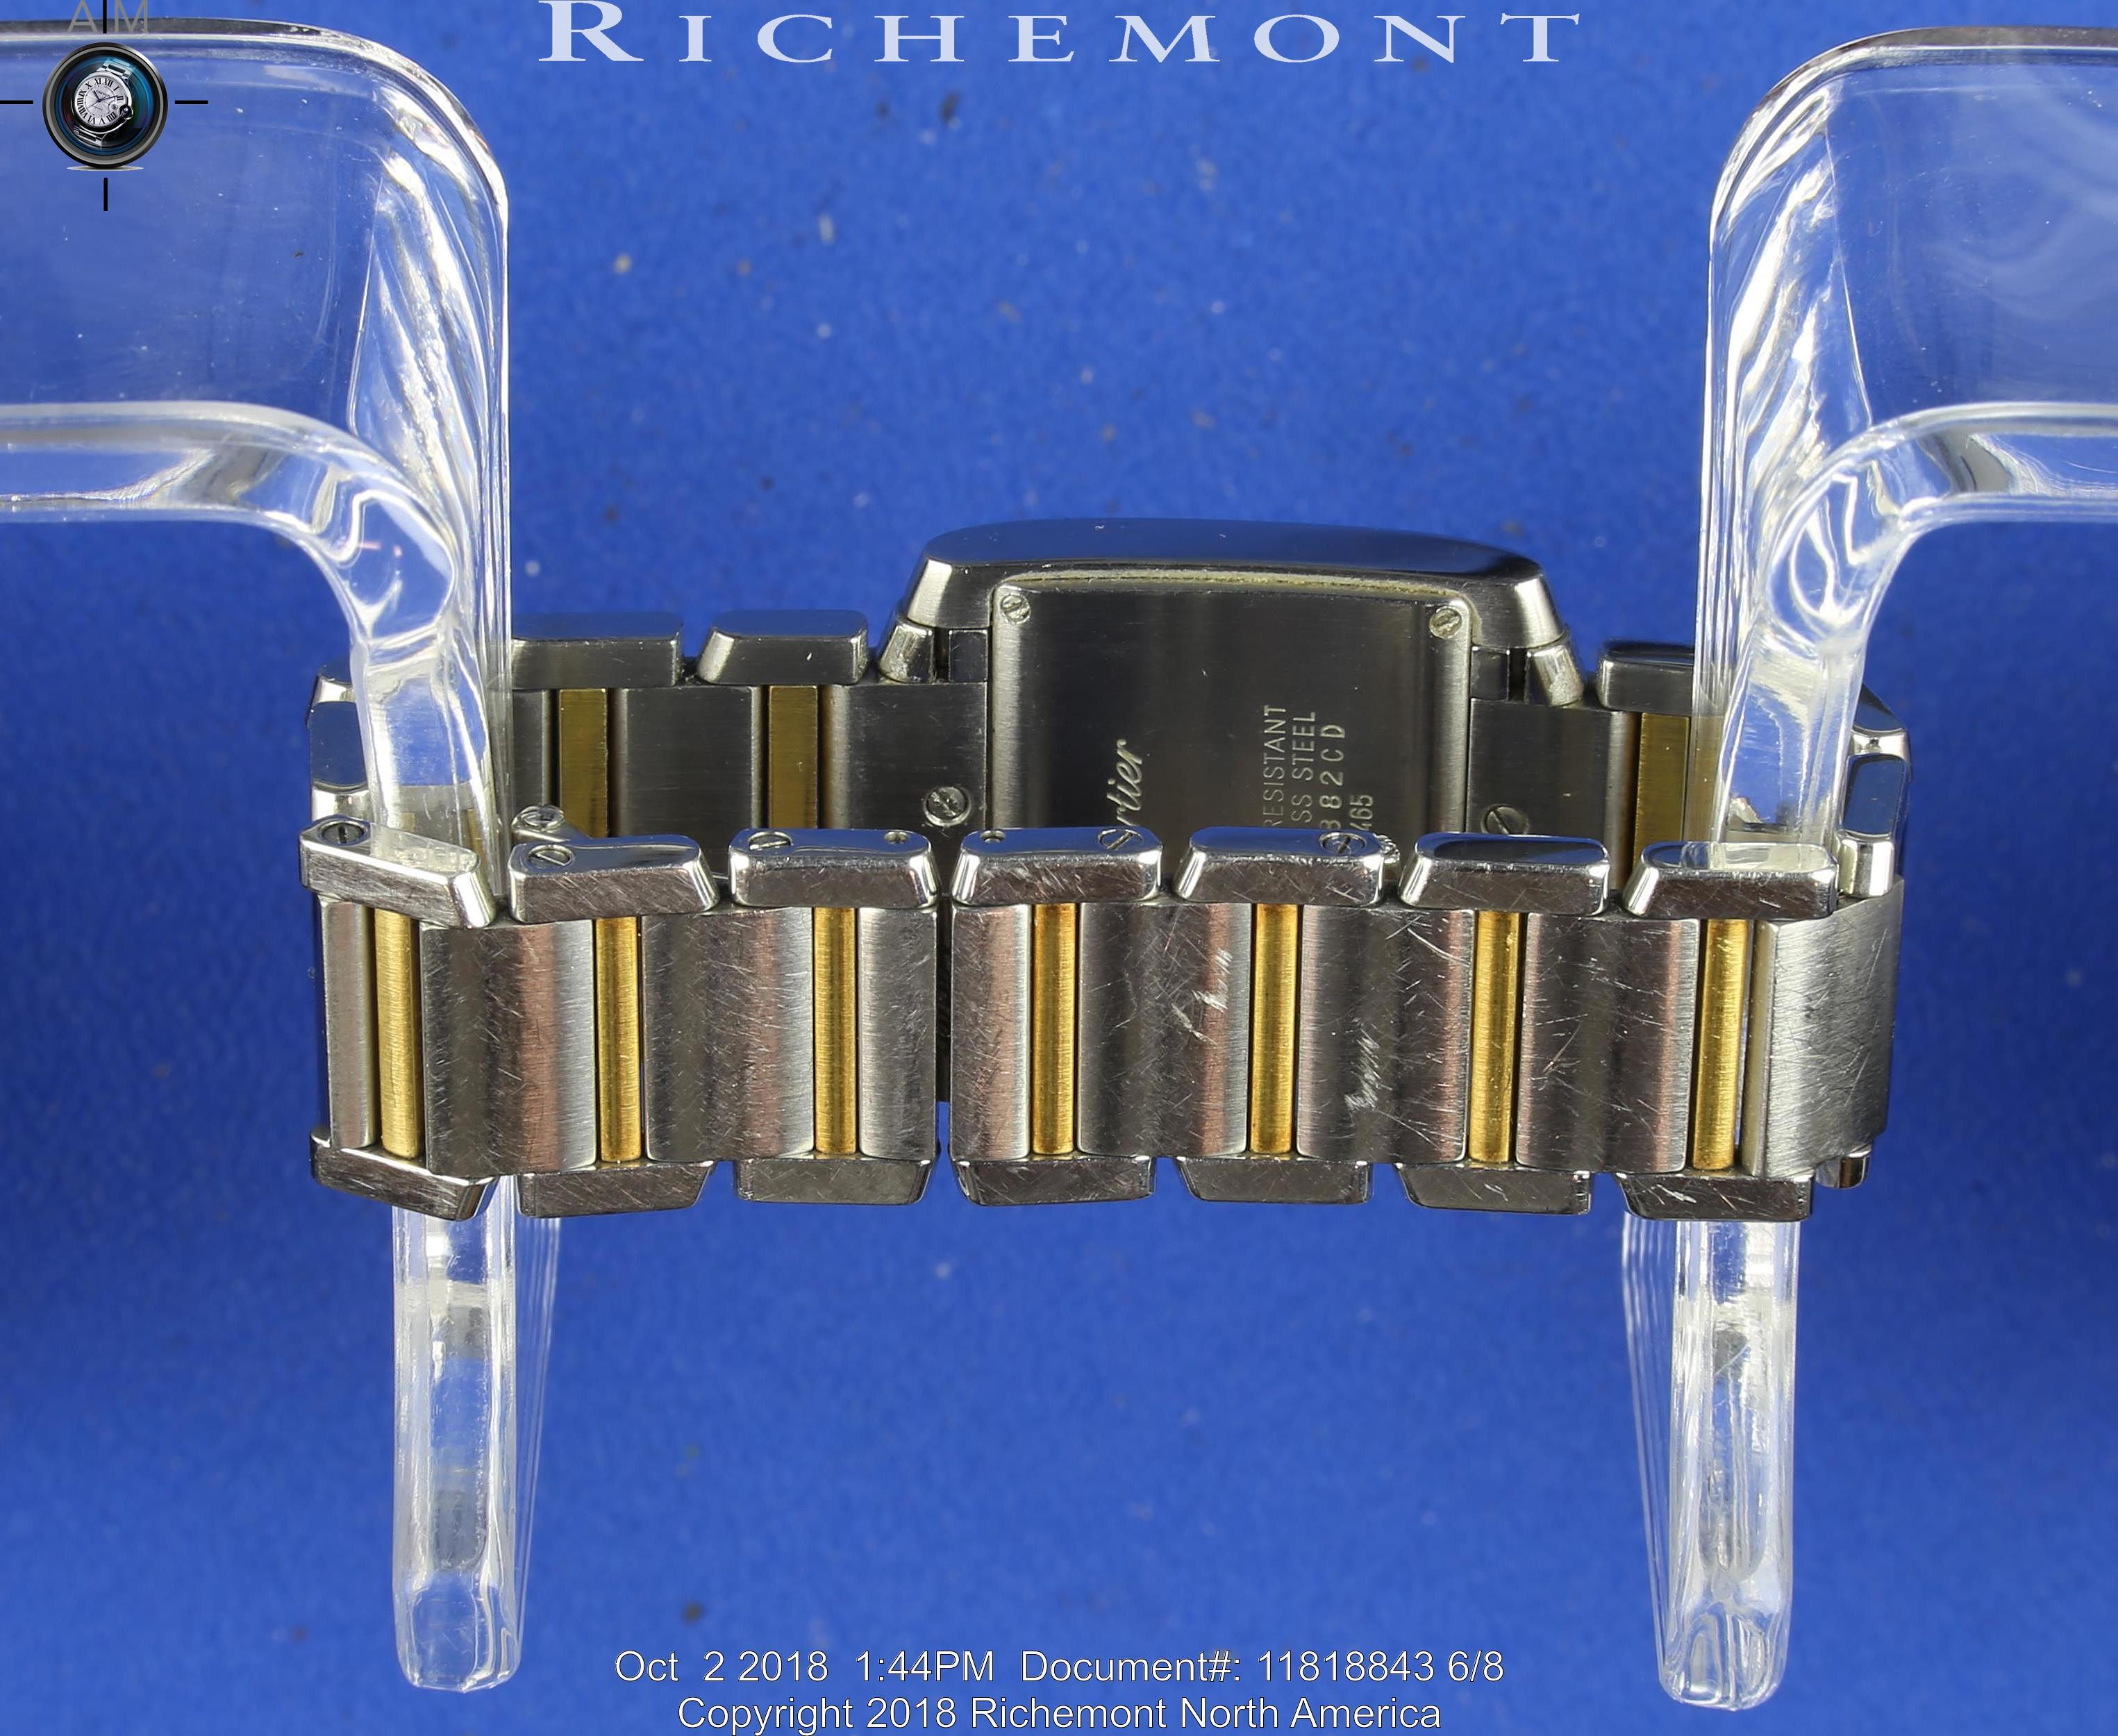watchback: (869, 547, 1541, 957)
